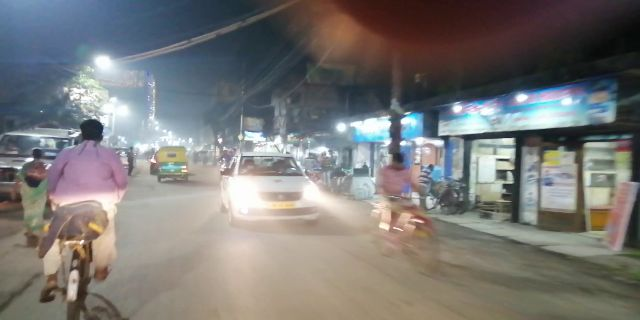Autorickshaw: (153, 144, 189, 189)
Car: (223, 144, 327, 234)
